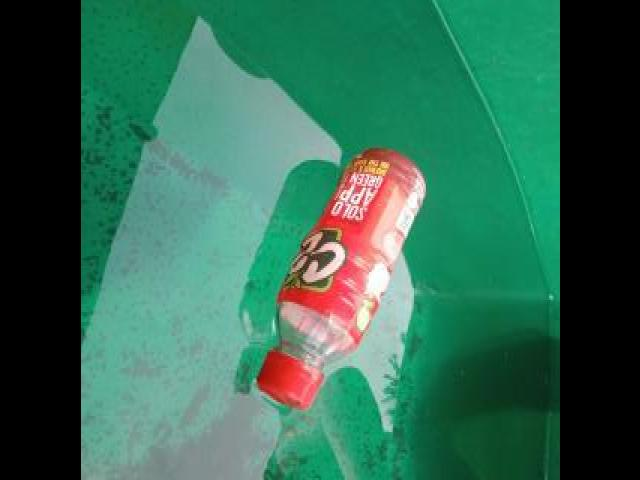Bottle: (249, 142, 431, 418)
